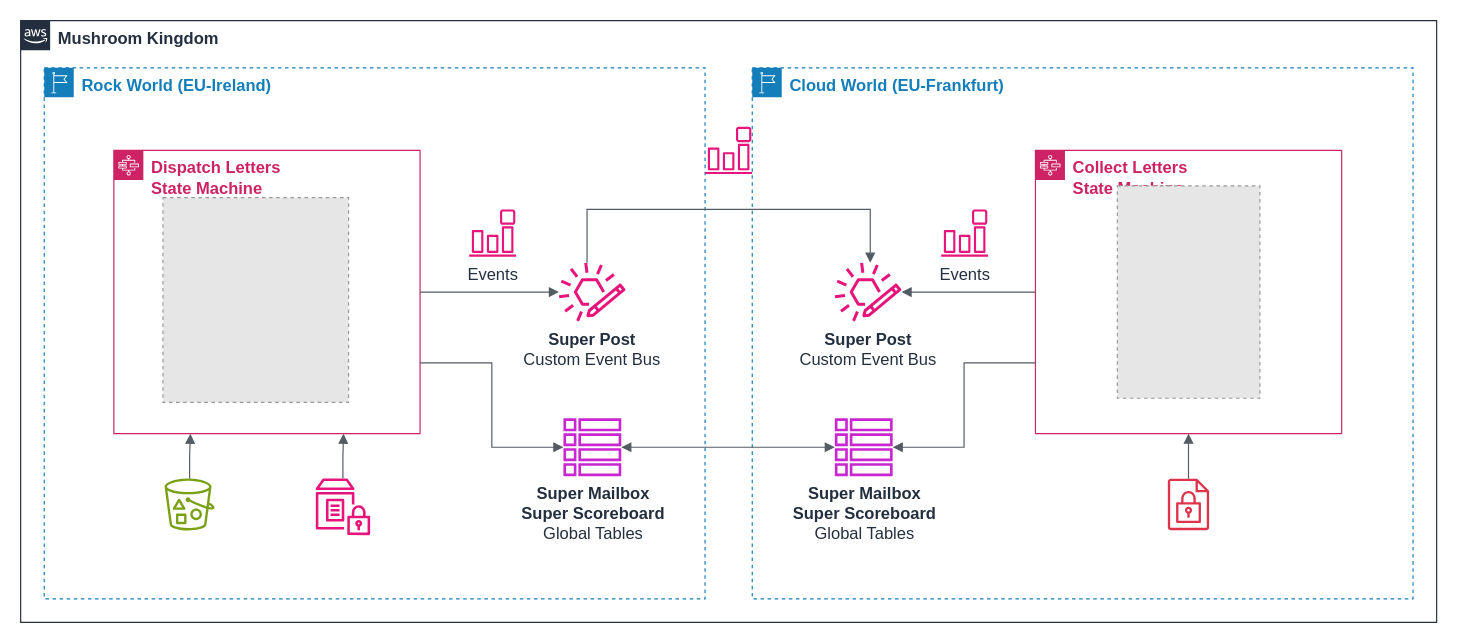
Image size: 1457x643. Some labels were removed from this diagram. Grey dashed boxes stand in for pictures. Here are the shapes that lost their labels. From the top down, the centre of each, then its label:
(728,149): Cross-region events
(189,504): Love Letters S3 object
(342,506): Configuration SSM Parameter
(1188,504): Reactions Bank SM Secret
